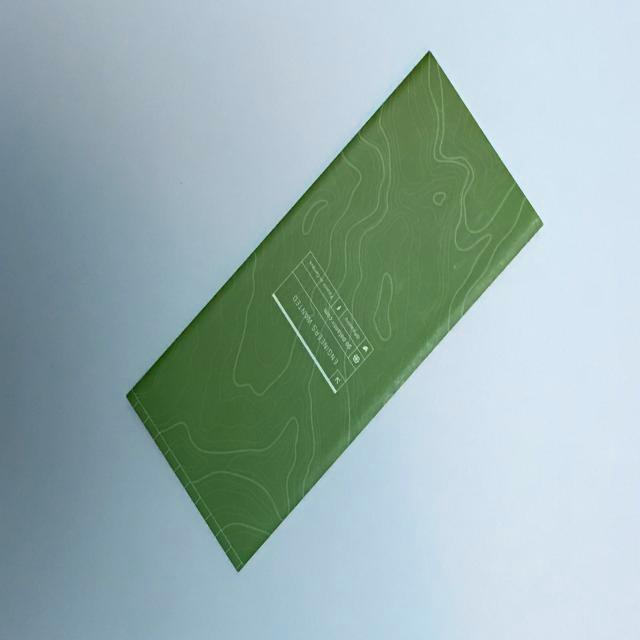paper: (100, 43, 543, 604)
